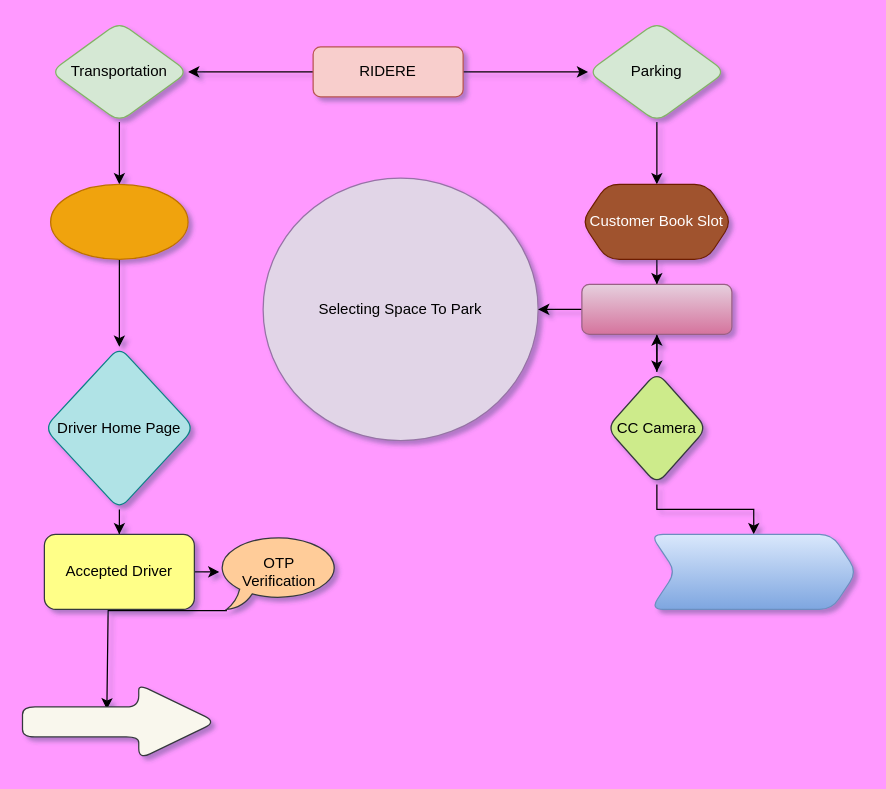
Image size: 886x789. Some labels were removed from this diagram. Each missing label, with the box of its shape:
After Parking If They Need Byke: (649, 533, 857, 609)
Cab's Logistics: (49, 183, 188, 259)
Land Owner Has To Give Time Slot: (581, 283, 732, 334)
Ride Start's: (21, 683, 216, 759)
